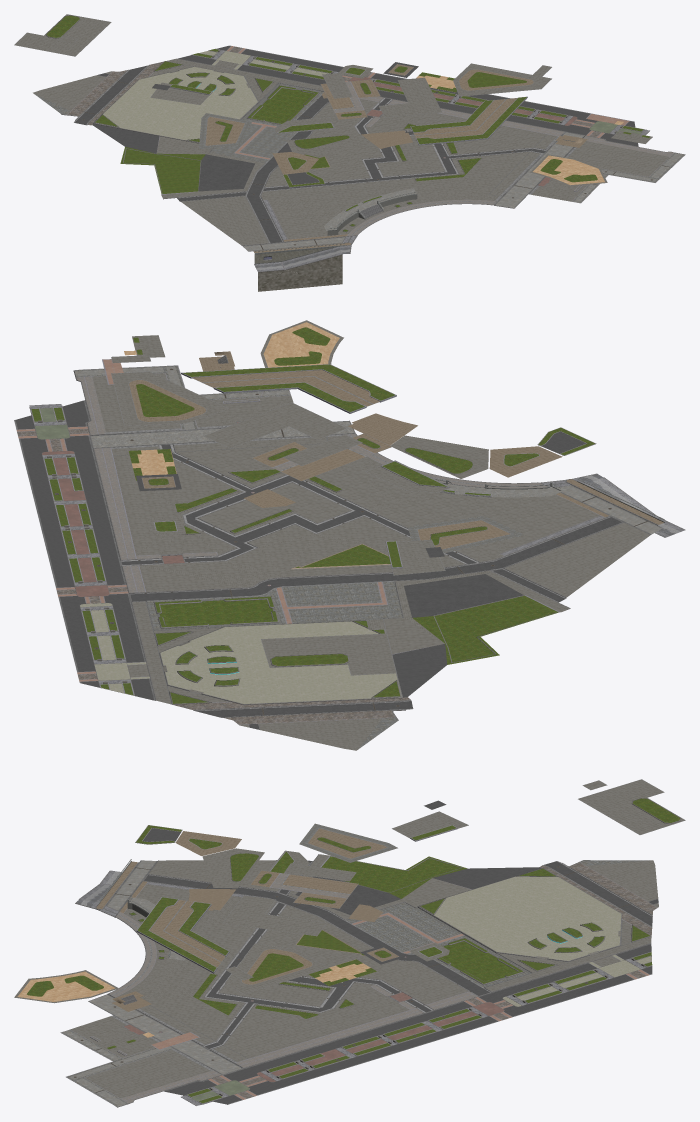
3 renders of one model, top to bottom at view 1: azimuth 30°, elevation 25°; view 2: azimuth 150°, elevation 25°; view 3: azimuth 270°, elevation 25°, orthographic. The views are drawn at different scales.
Parts seen in each view (by area): view 1: um_t1_g17_1_model_t1_g17_1_modelShape, polysurface81; view 2: um_t1_g17_1_model_t1_g17_1_modelShape, polysurface81; view 3: um_t1_g17_1_model_t1_g17_1_modelShape, polysurface81.
Part boxes in pixels (<box>): um_t1_g17_1_model_t1_g17_1_modelShape: <box>14,14,685,291</box>; polysurface81: <box>252,88,313,122</box>; um_t1_g17_1_model_t1_g17_1_modelShape: <box>14,320,685,750</box>; polysurface81: <box>159,599,272,625</box>; um_t1_g17_1_model_t1_g17_1_modelShape: <box>14,779,685,1107</box>; polysurface81: <box>441,941,517,981</box>.
Size of the model in its own units: 218 by 46.16 by 237.
Materials: 26 (26 with a texture image).
